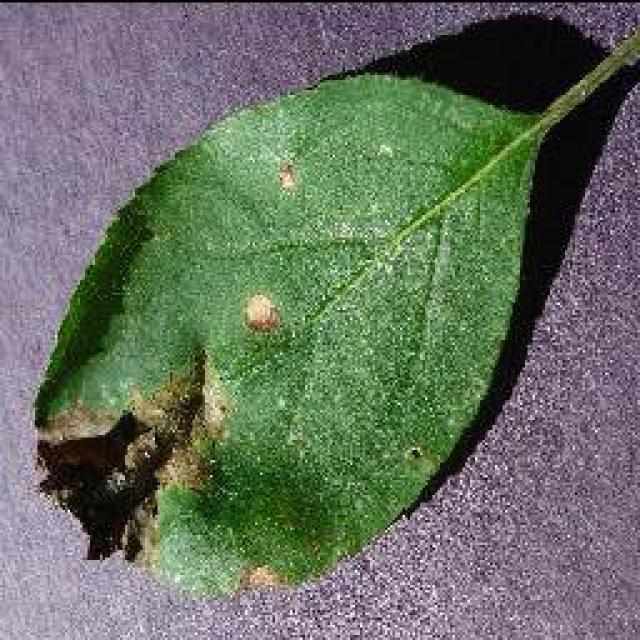Black_rot: (30, 2, 638, 600)
